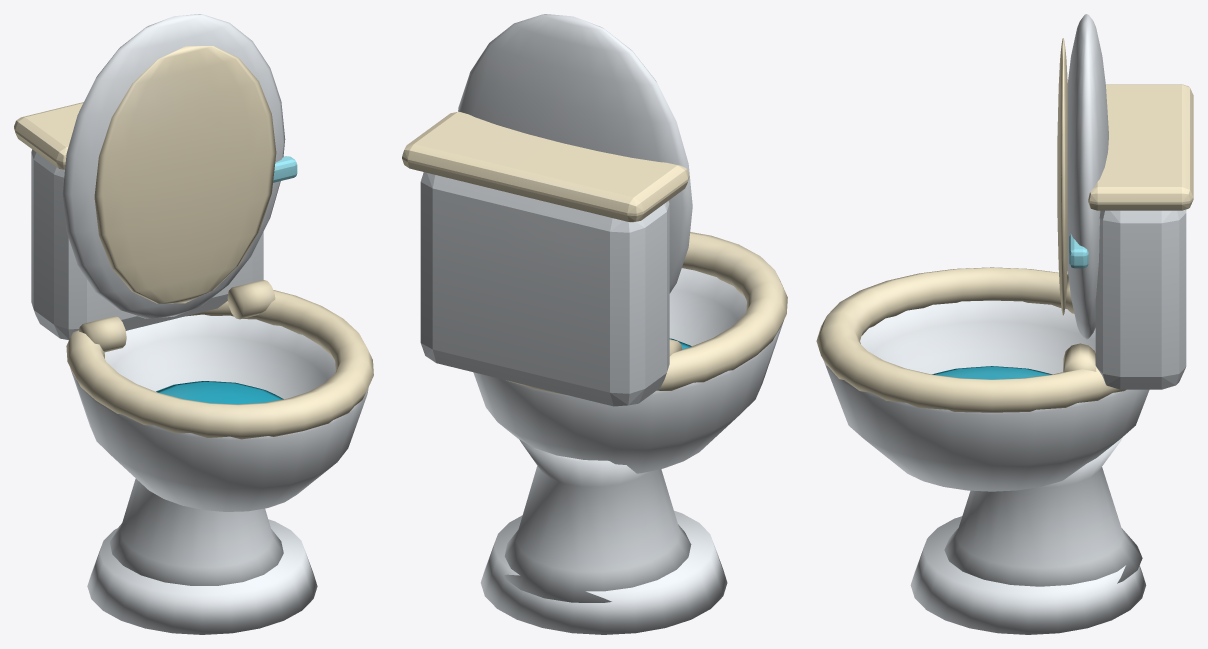
File: BasicToilet.fbx
The picture shows the model from 3 angles, left to right: view 1: azimuth 30°, elevation 25°; view 2: azimuth 150°, elevation 25°; view 3: azimuth 270°, elevation 25°; orthographic projection. The views are drawn at different scales.
Parts seen in each view (by area): view 1: BasicToilet; view 2: BasicToilet; view 3: BasicToilet.
Part boxes in pixels (bbox=[...]): BasicToilet: bbox=[14, 14, 373, 634]; BasicToilet: bbox=[402, 14, 787, 634]; BasicToilet: bbox=[816, 14, 1193, 634].
Size of the model in its own units: 2.34 by 4.79 by 2.91.
Materials: 1 (1 with a texture image).
